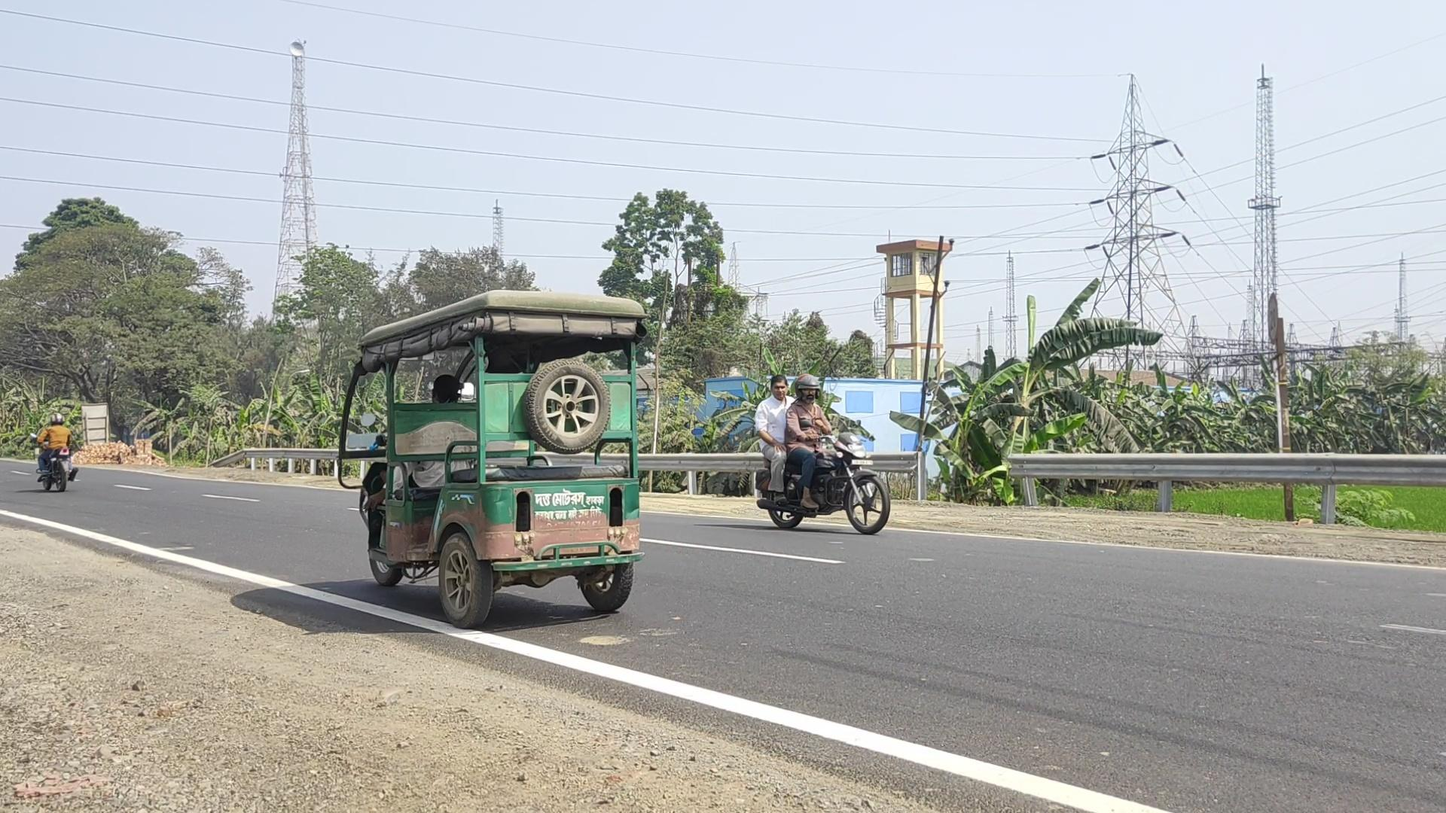Auto: (337, 290, 649, 630)
bike: (754, 374, 890, 536), (29, 412, 78, 493)
